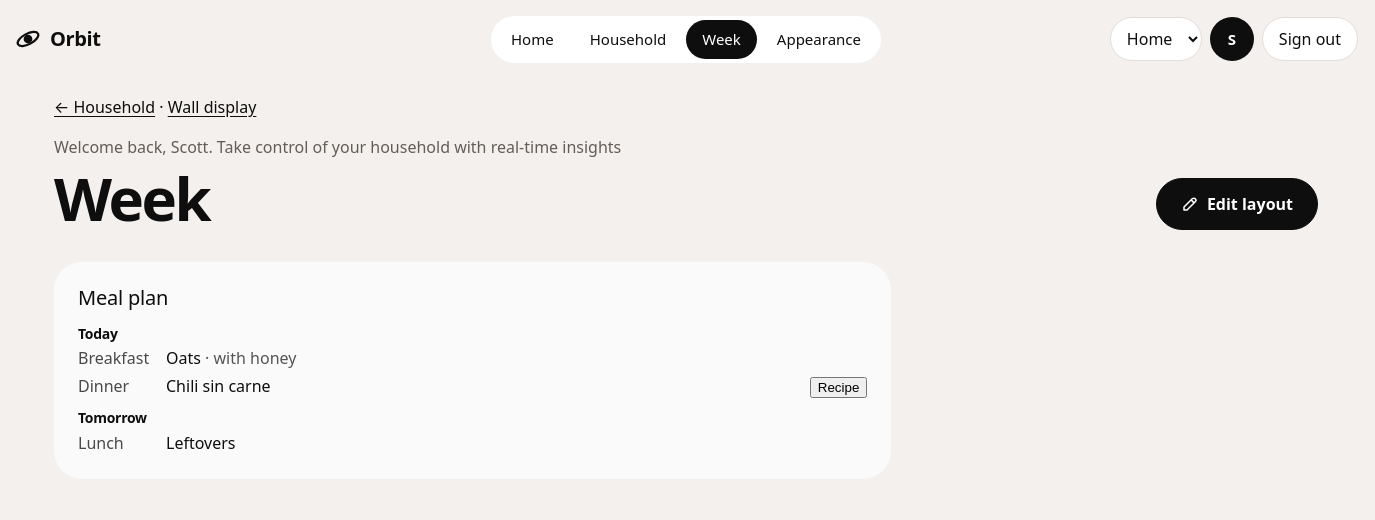
Scenario: meal plan widget › explains a recipe that cannot be loaded
The width and height of the screenshot is (1375, 520).
Click the button with aria-label "Show the recipe for Chili sin carne": (839, 388) x1=810 y1=377 x2=867 y2=398
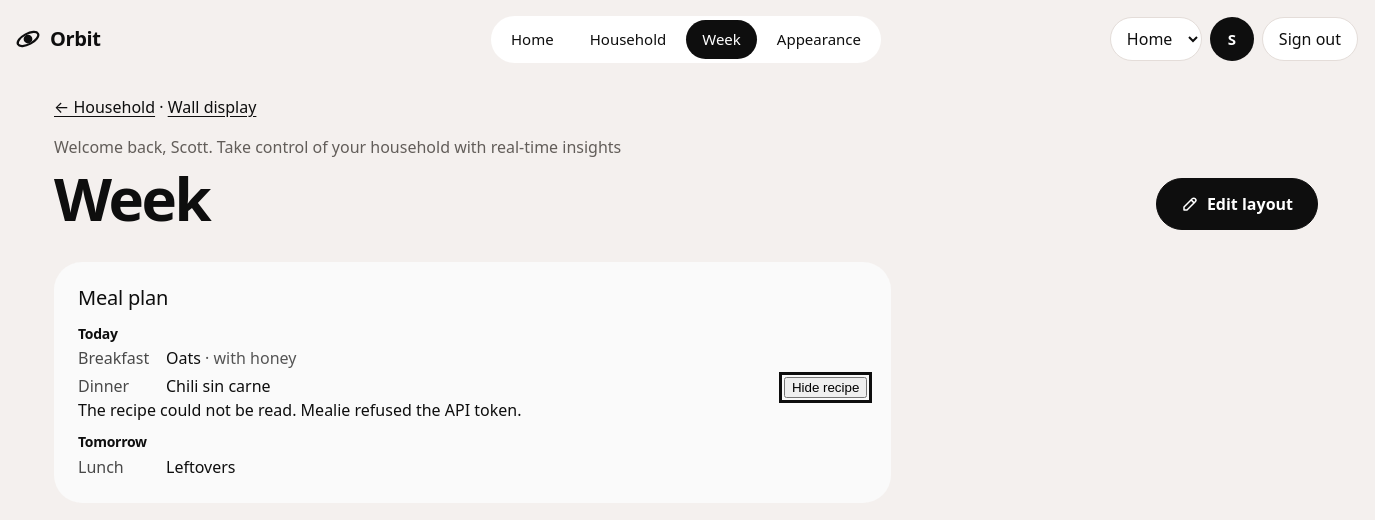
Expected: the message shows "Mealie refused the API token", x1=78 y1=399 x2=522 y2=421
